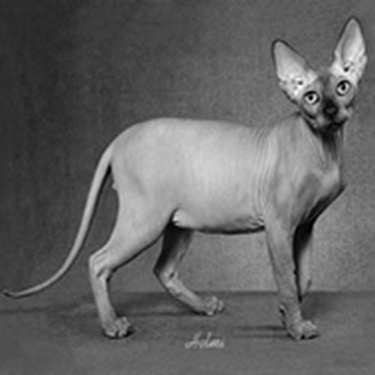cat: (4, 16, 366, 344)
